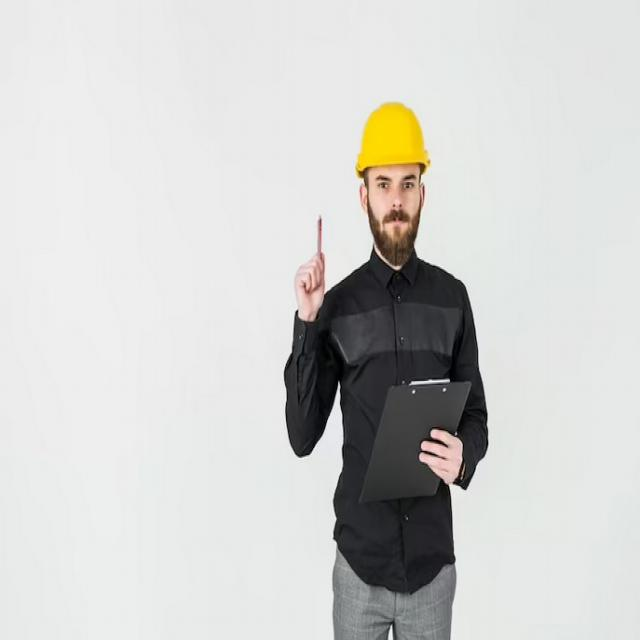helmet: (353, 88, 441, 186)
